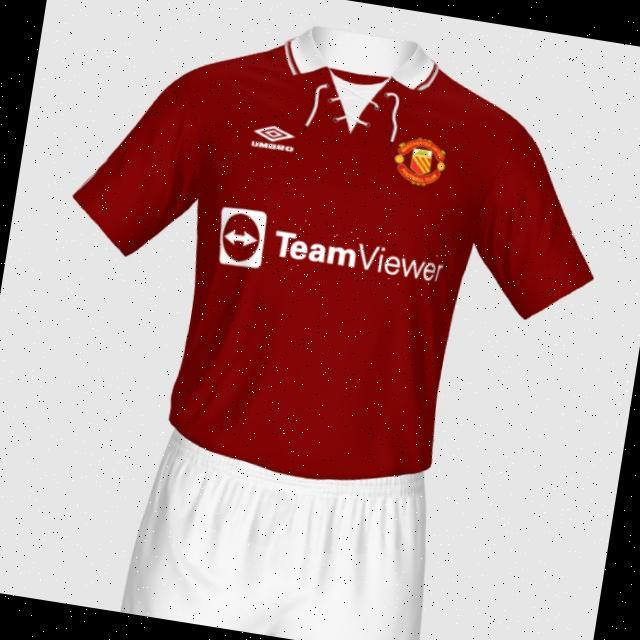TeamViewer: (219, 208, 452, 299)
